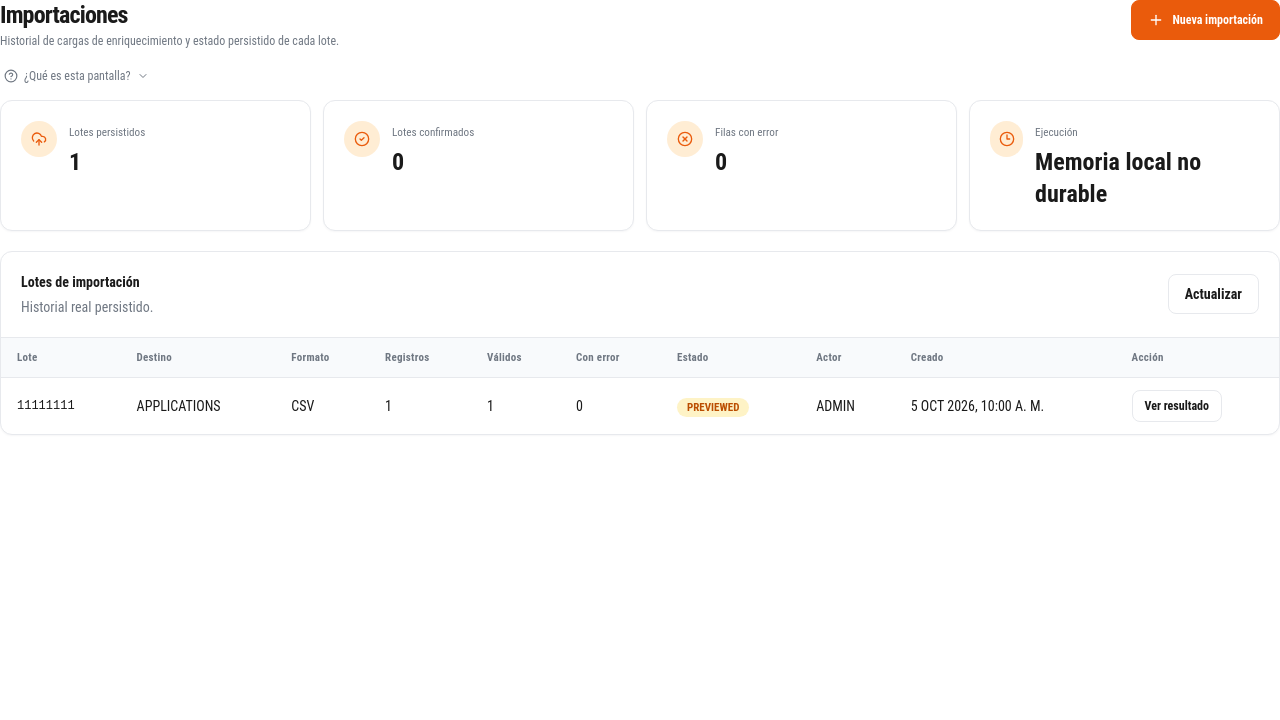
Test: ImportsWorkspace › runs the five approved steps and confirms only the real preview
Click the button "Nueva importación" at (1206, 20), box [1132,0,1279,40]
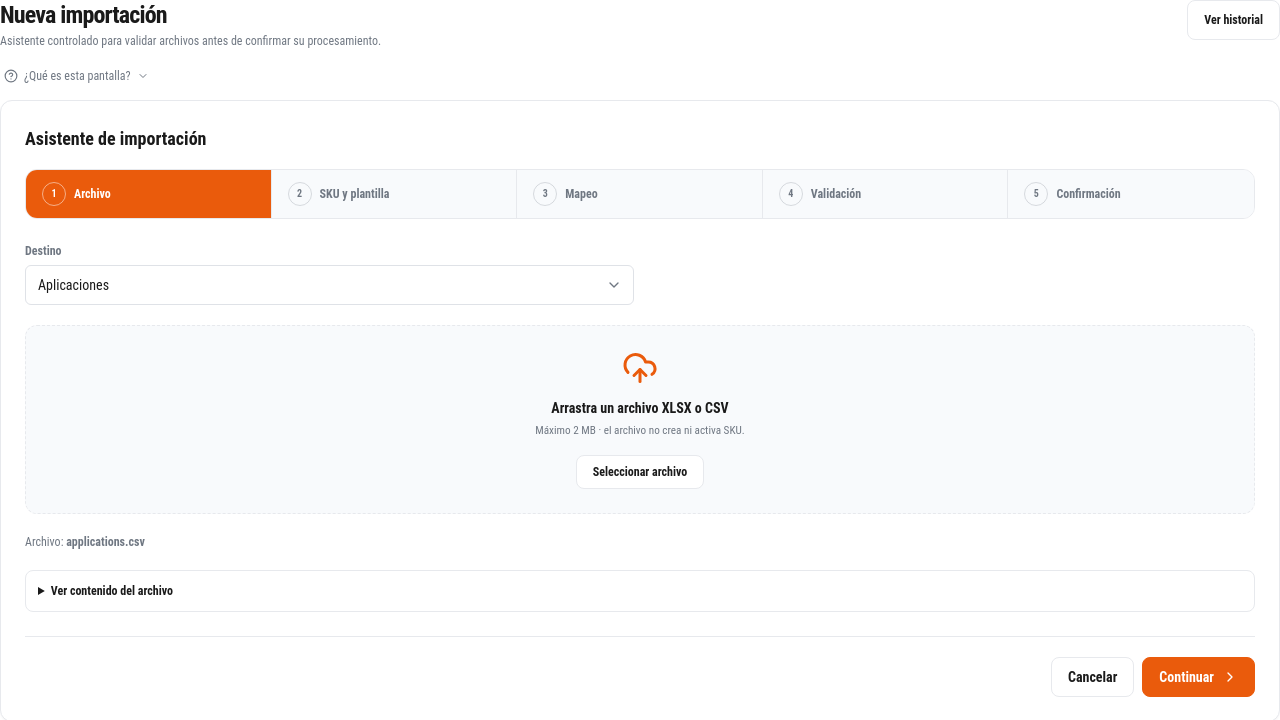
Expected: the text "Arrastra un archivo XLSX o CSV" is shown, [551,400,729,416]
Click the button "Continuar" at (1199, 677), box [1142,657,1255,697]
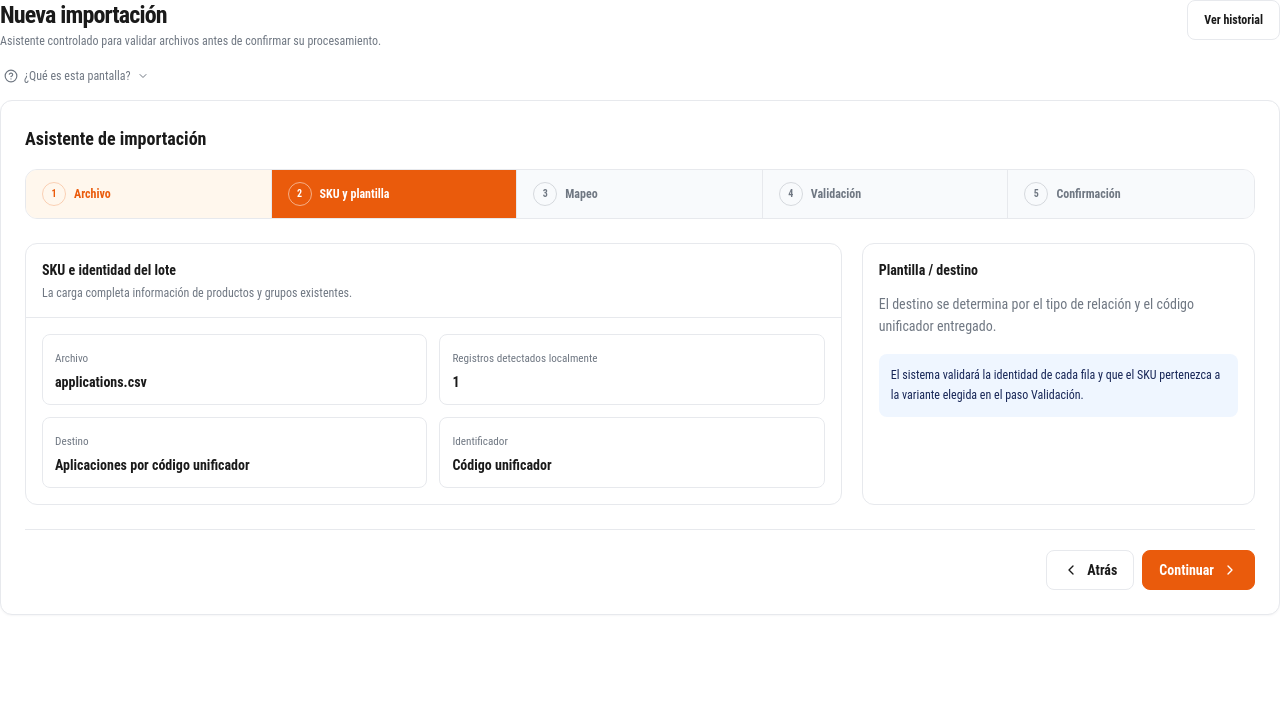
Expected: the heading "SKU e identidad del lote" is shown, [42,262,176,278]
Click the button "Continuar" at (1199, 570), box [1142,550,1255,590]
(page scrolled)
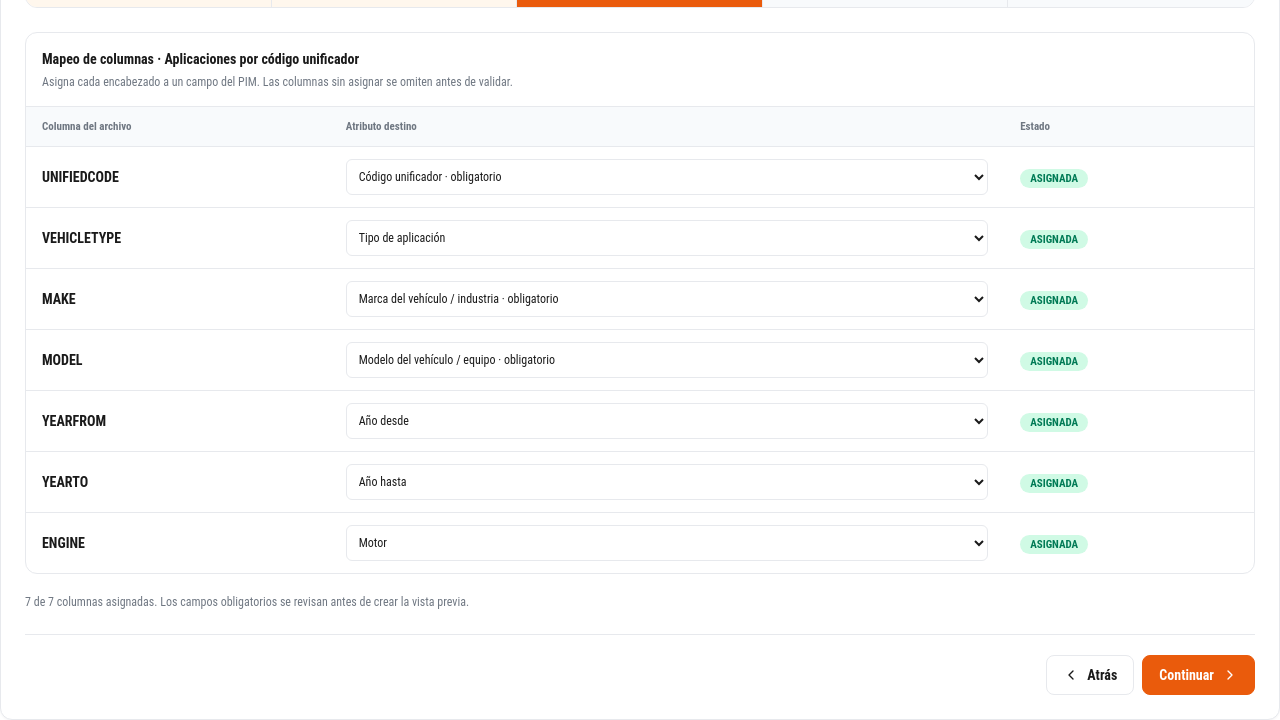
Expected: the heading "Mapeo de columnas · Aplicaciones por código unificador" is shown, [42,50,359,66]
Click the button "Continuar" at (1199, 675), box [1142,655,1255,695]
(page scrolled)
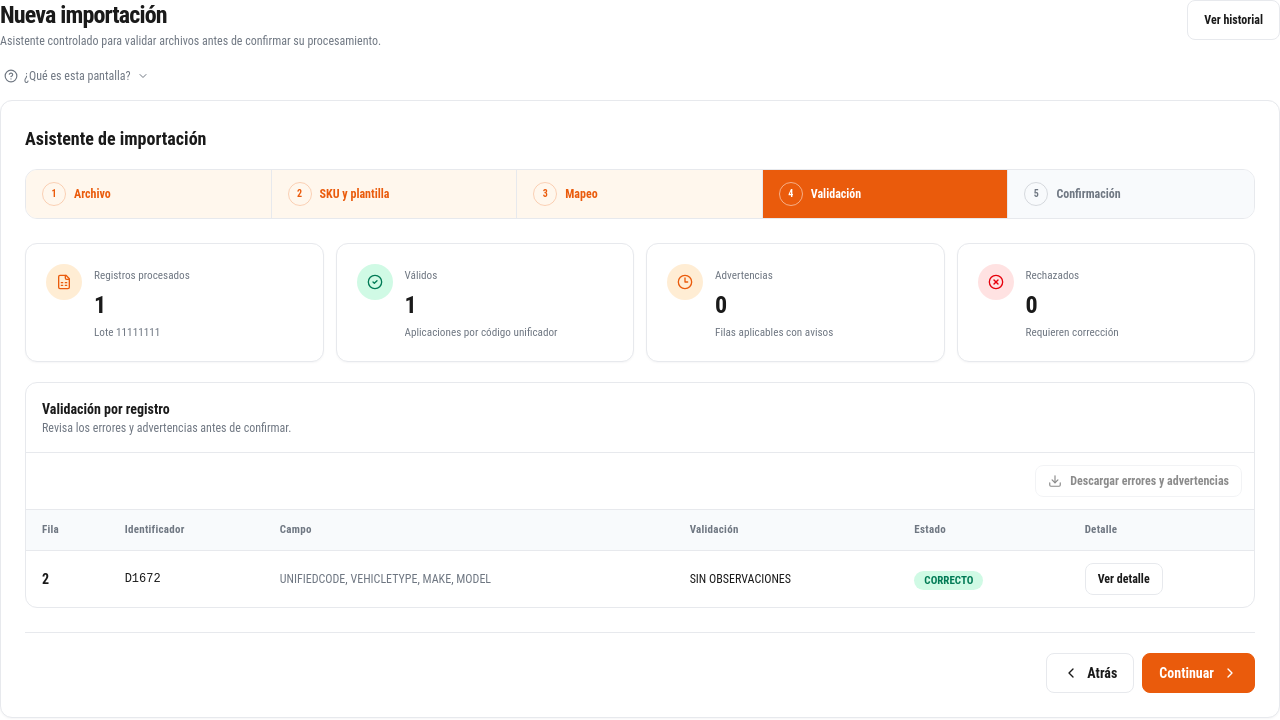
Expected: the heading "Validación por registro" is shown, [42,401,170,417]
Expected: the text "Revisa los errores y advertencias antes de confirmar." is shown, [42,421,292,435]
Click the button "Continuar" at (1199, 673), box [1142,653,1255,693]
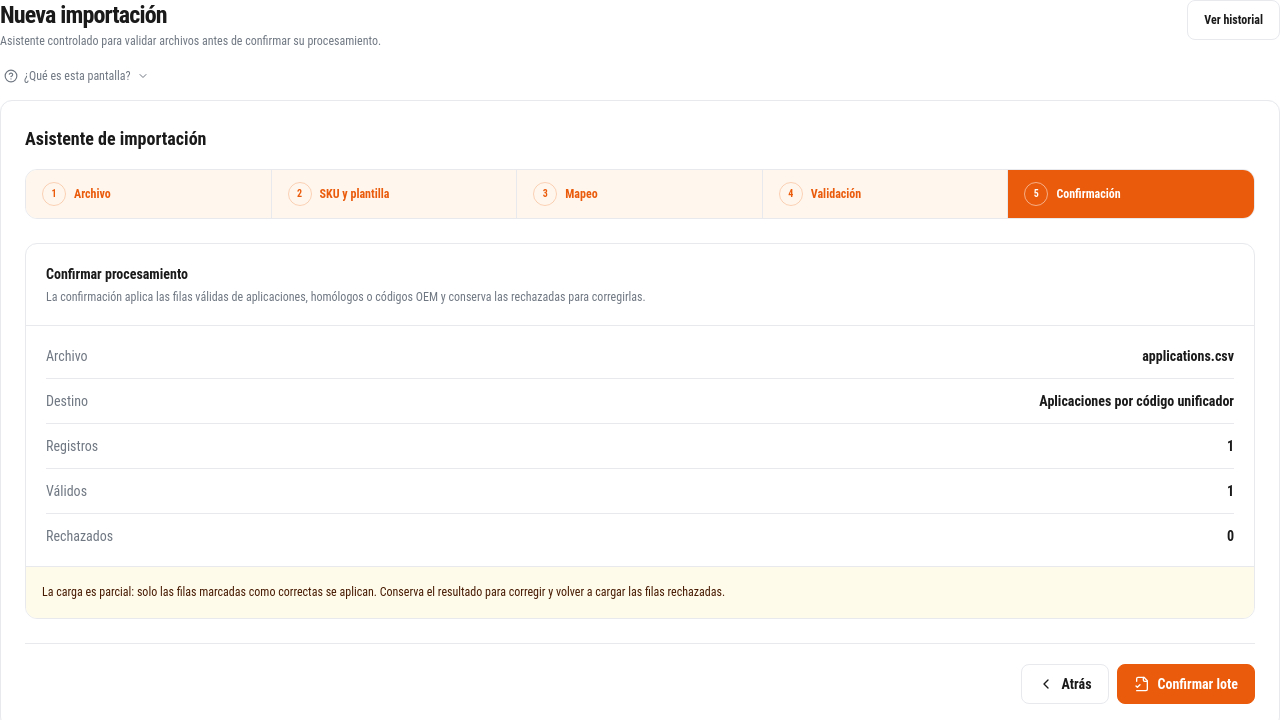
Expected: the heading "Confirmar procesamiento" is shown, [46,266,188,282]
Click the button "Confirmar lote" at (1186, 684), box [1116,664,1255,704]
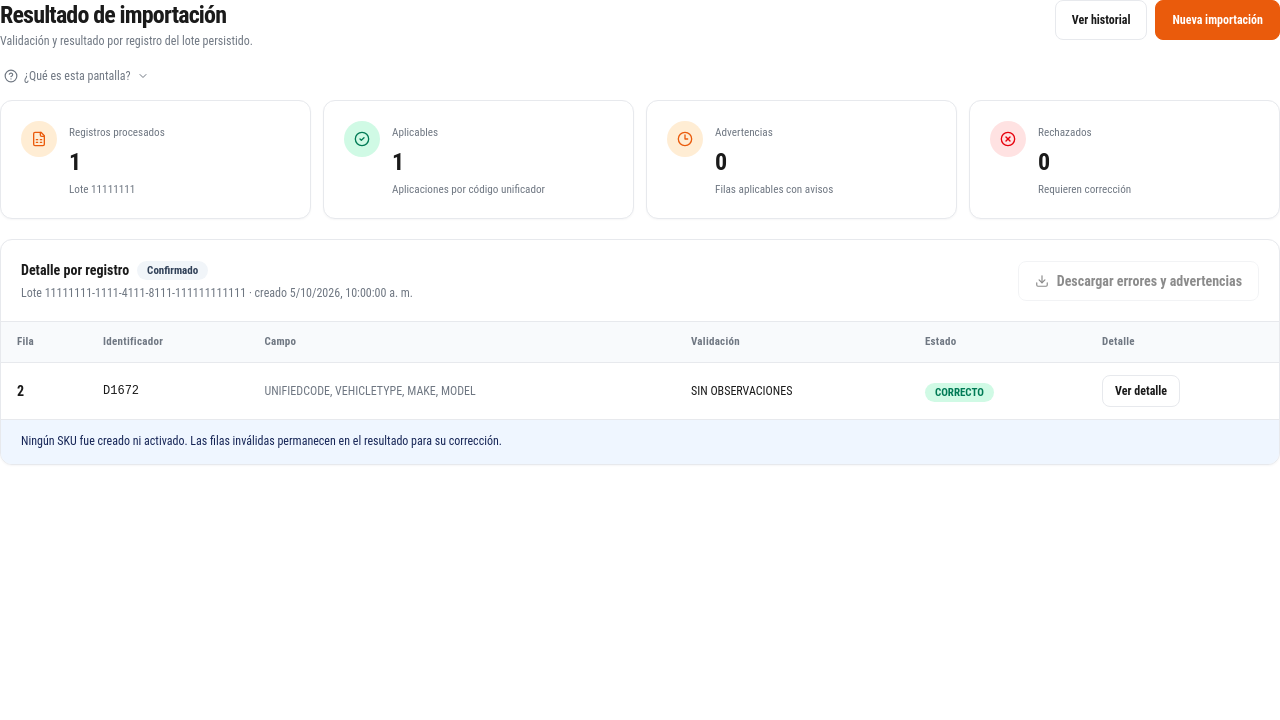
Expected: the heading "Resultado de importación" is shown, [0,0,226,30]
Expected: the text "Confirmado" is shown, [137,261,208,280]
